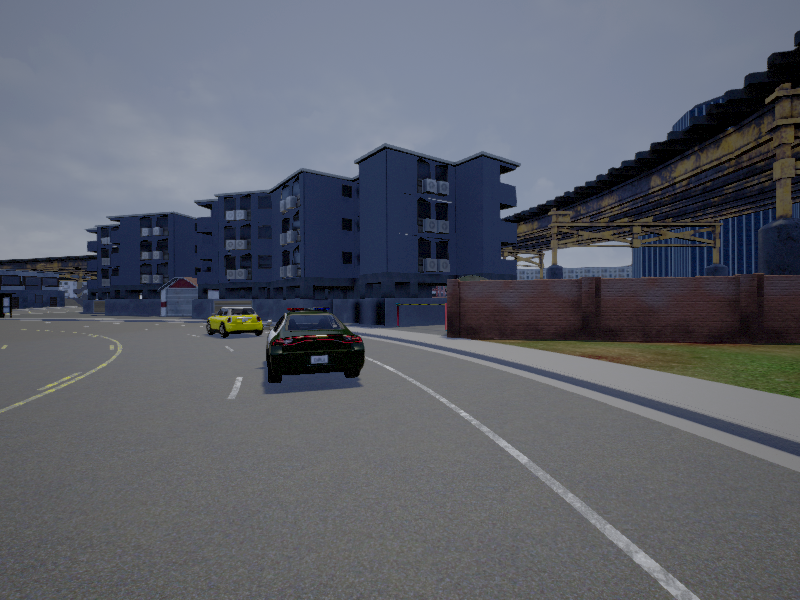Benign: (264, 309, 365, 385), (207, 307, 263, 337)
